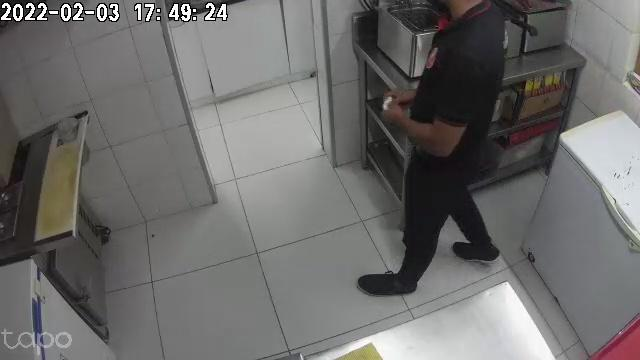no_gloves: (382, 103, 413, 126), (386, 87, 417, 104)
